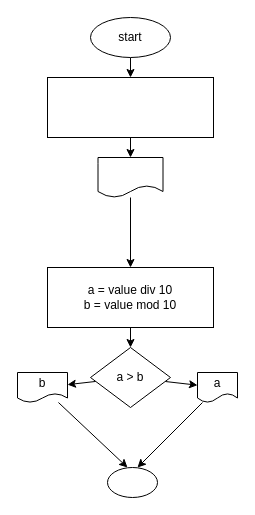
The diagram is 255 pixels wide and 515 high, and some of its shapes have lost their labels. The box of each missing label's shape, as (x1, y1, x2, y2) in pixels:
end: (106, 466, 158, 498)
value: (97, 156, 163, 198)
value = Random(10, 99): (46, 76, 214, 138)
